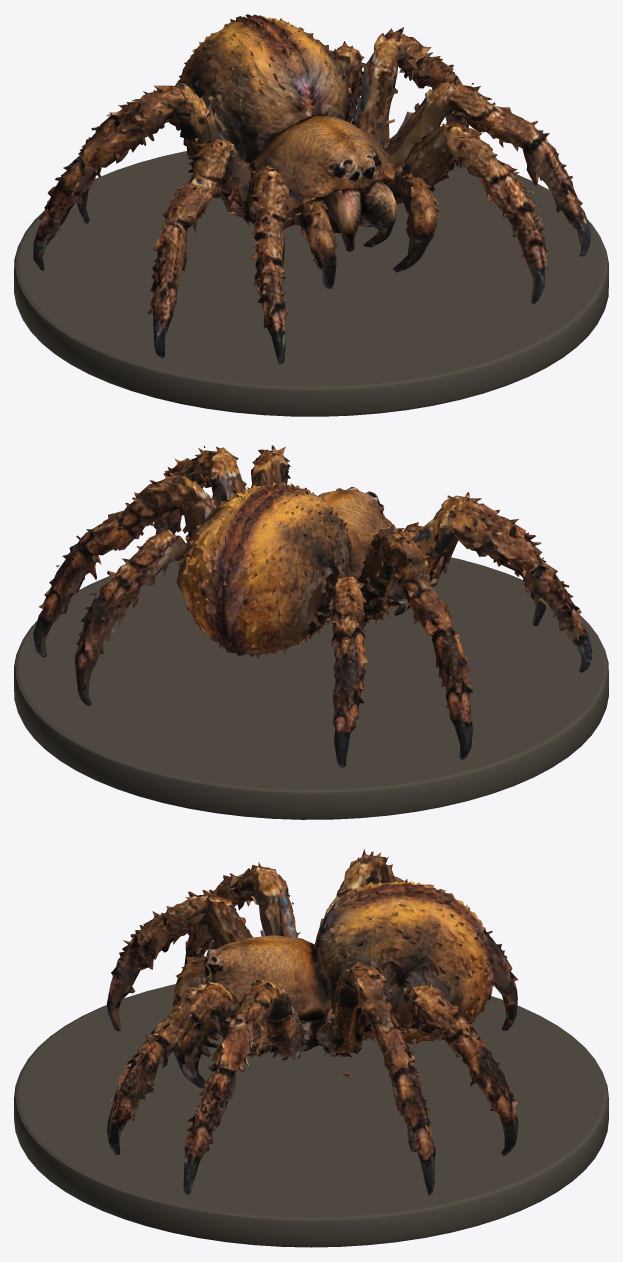
Rendered from spider.glb.
The picture shows the model from 3 angles, top to bottom: view 1: azimuth 30°, elevation 25°; view 2: azimuth 150°, elevation 25°; view 3: azimuth 270°, elevation 25°; orthographic projection.
Parts seen in each view (by area): view 1: spider_round_base, spider_body; view 2: spider_round_base, spider_body; view 3: spider_round_base, spider_body.
Part boxes in pixels (<box>): spider_round_base: <box>14,143,608,416</box>; spider_body: <box>33,14,590,364</box>; spider_round_base: <box>14,557,608,819</box>; spider_body: <box>33,445,592,767</box>; spider_round_base: <box>14,984,608,1247</box>; spider_body: <box>106,849,518,1195</box>.
Bounding box in the file's own units: 1 × 0.4396 × 1.
2 materials, 1 textured.
